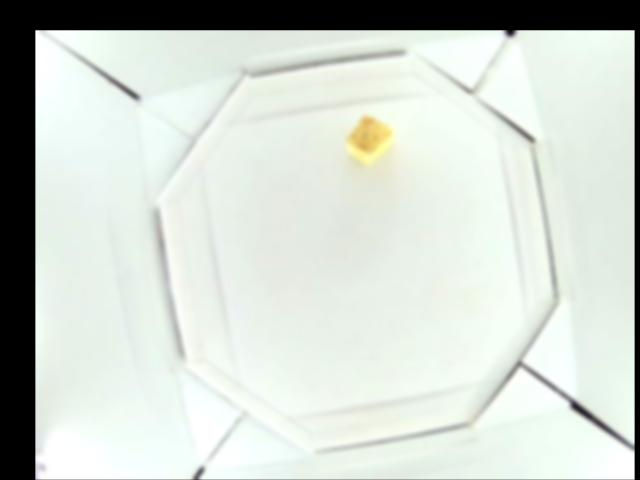Potato: (343, 115, 393, 157)
